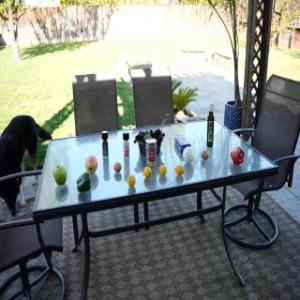bell_pepper: (76, 171, 92, 193), (230, 145, 246, 165)
egg: (112, 163, 122, 175), (200, 149, 209, 161)
onion: (183, 147, 195, 165)
